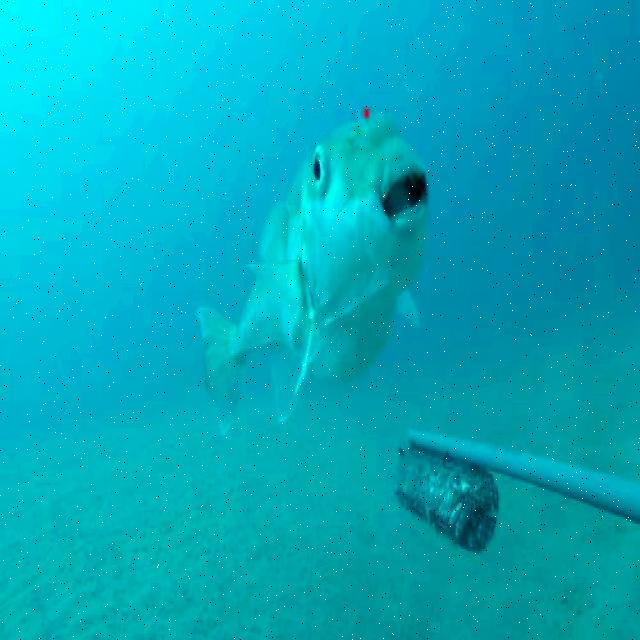Balik: (199, 114, 427, 432)
